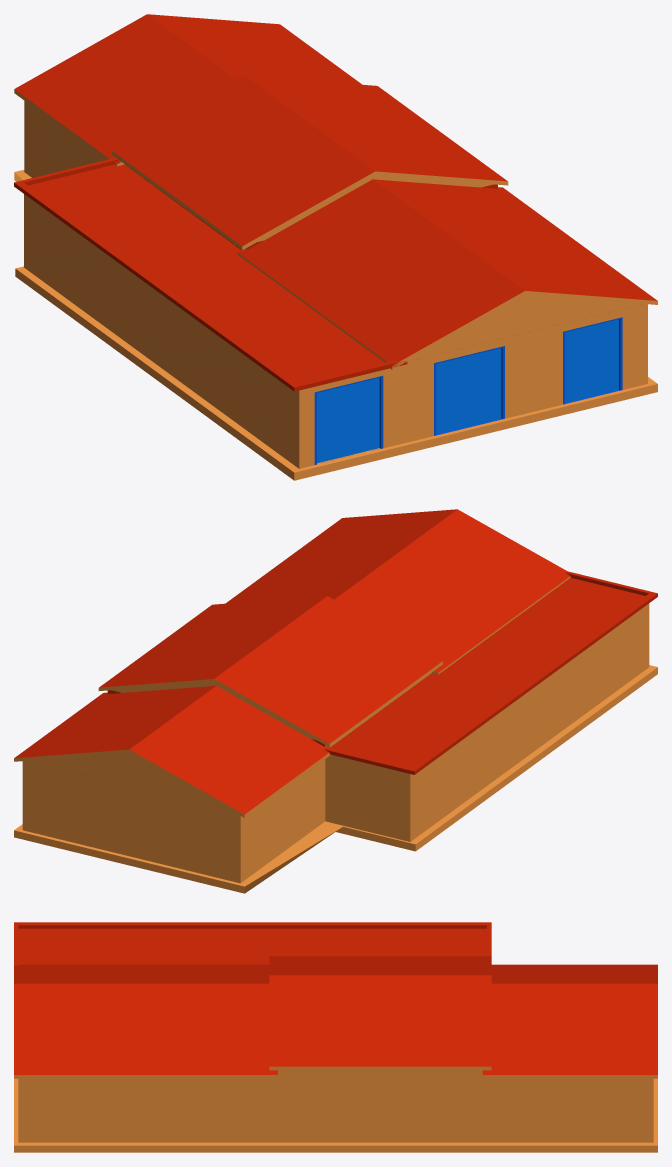
File: Goshen Gable.fbx
The picture shows the model from 3 angles, top to bottom: view 1: azimuth 30°, elevation 25°; view 2: azimuth 150°, elevation 25°; view 3: azimuth 270°, elevation 25°; orthographic projection. The views are drawn at different scales.
Parts seen in each view (by area): view 1: building_003; view 2: building_003; view 3: building_003.
Boxes of the visible parts, x1=… form: building_003: x1=14, y1=14, x2=657, y2=480; building_003: x1=14, y1=509, x2=657, y2=893; building_003: x1=14, y1=922, x2=657, y2=1152.
Size of the model in its own units: 1636 by 617 by 2946.
